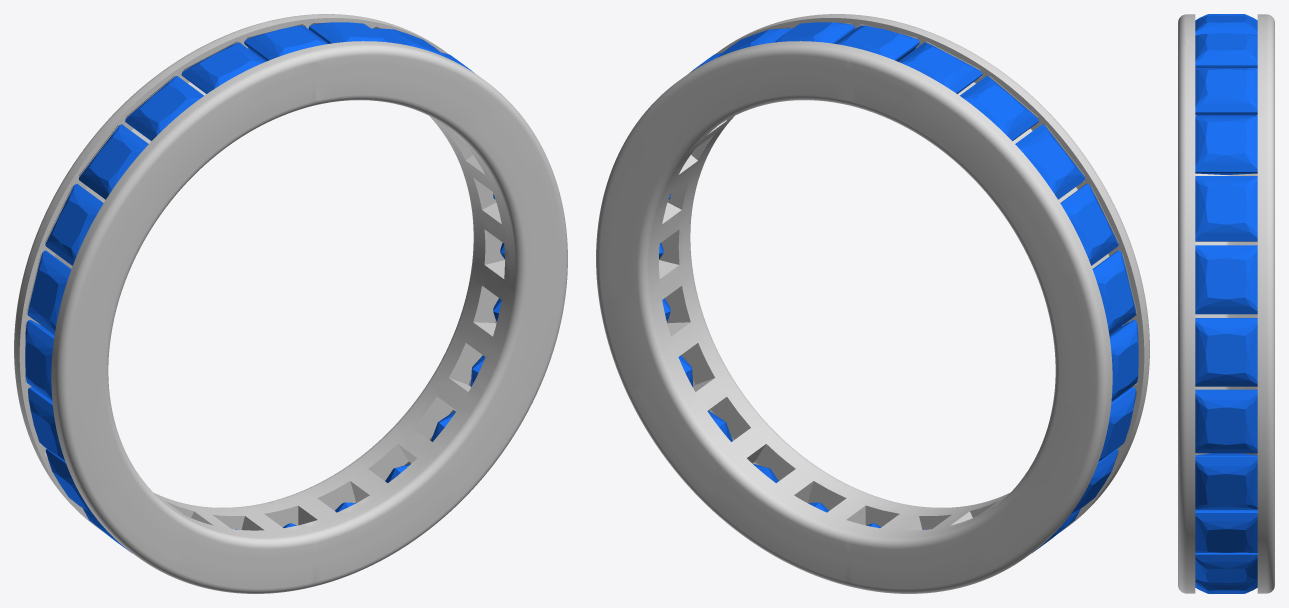
File: NatPTeternity_blender.glb
The picture shows the model from 3 angles, left to right: view 1: azimuth 30°, elevation 25°; view 2: azimuth 150°, elevation 25°; view 3: azimuth 270°, elevation 25°; orthographic projection.
Parts seen in each view (by area): view 1: Nat PT for 3d model, Nat sapph for 3d model.020, Nat sapph for 3d model.019, Nat sapph for 3d model.021, Nat sapph for 3d model.018, Nat sapph for 3d model.022, Nat sapph for 3d model.017, Nat sapph for 3d model.023, Nat sapph for 3d model.016, Nat sapph for 3d model, Nat sapph for 3d model.015; view 2: Nat PT for 3d model, Nat sapph for 3d model.020, Nat sapph for 3d model.019, Nat sapph for 3d model.021, Nat sapph for 3d model.018, Nat sapph for 3d model.022, Nat sapph for 3d model.017, Nat sapph for 3d model.023, Nat sapph for 3d model.016, Nat sapph for 3d model, Nat sapph for 3d model.015; view 3: Nat PT for 3d model, Nat sapph for 3d model.003, Nat sapph for 3d model.004, Nat sapph for 3d model.002, Nat sapph for 3d model.005, Nat sapph for 3d model.001, Nat sapph for 3d model.006, Nat sapph for 3d model, Nat sapph for 3d model.007, Nat sapph for 3d model.023, Nat sapph for 3d model.008, Nat sapph for 3d model.022 (+1 smaller).
Boxes of the visible parts, left/top/right/bottom form: Nat PT for 3d model: left=14, top=14, right=567, bottom=593; Nat sapph for 3d model.020: left=79, top=124, right=148, bottom=199; Nat sapph for 3d model.019: left=45, top=184, right=103, bottom=265; Nat sapph for 3d model.021: left=125, top=76, right=203, bottom=140; Nat sapph for 3d model.018: left=27, top=250, right=71, bottom=334; Nat sapph for 3d model.022: left=181, top=42, right=265, bottom=93; Nat sapph for 3d model.017: left=25, top=320, right=54, bottom=401; Nat sapph for 3d model.023: left=244, top=25, right=328, bottom=61; Nat sapph for 3d model.016: left=28, top=387, right=65, bottom=461; Nat sapph for 3d model: left=308, top=22, right=389, bottom=43; Nat sapph for 3d model.015: left=45, top=449, right=92, bottom=513; Nat PT for 3d model: left=596, top=14, right=1149, bottom=593; Nat sapph for 3d model.020: left=1015, top=124, right=1084, bottom=199; Nat sapph for 3d model.019: left=1060, top=184, right=1118, bottom=265; Nat sapph for 3d model.021: left=960, top=76, right=1038, bottom=140; Nat sapph for 3d model.018: left=1092, top=250, right=1136, bottom=334; Nat sapph for 3d model.022: left=898, top=42, right=982, bottom=93; Nat sapph for 3d model.017: left=1109, top=320, right=1138, bottom=401; Nat sapph for 3d model.023: left=836, top=25, right=919, bottom=61; Nat sapph for 3d model.016: left=1098, top=387, right=1135, bottom=461; Nat sapph for 3d model: left=774, top=22, right=855, bottom=43; Nat sapph for 3d model.015: left=1071, top=449, right=1118, bottom=513; Nat PT for 3d model: left=1178, top=14, right=1274, bottom=593; Nat sapph for 3d model.003: left=1195, top=245, right=1257, bottom=314; Nat sapph for 3d model.004: left=1195, top=318, right=1257, bottom=386; Nat sapph for 3d model.002: left=1195, top=176, right=1257, bottom=241; Nat sapph for 3d model.005: left=1195, top=389, right=1257, bottom=453; Nat sapph for 3d model.001: left=1195, top=115, right=1257, bottom=174; Nat sapph for 3d model.006: left=1195, top=453, right=1257, bottom=509; Nat sapph for 3d model: left=1195, top=67, right=1257, bottom=115; Nat sapph for 3d model.007: left=1195, top=510, right=1257, bottom=552; Nat sapph for 3d model.023: left=1195, top=33, right=1257, bottom=67; Nat sapph for 3d model.008: left=1195, top=553, right=1257, bottom=582; Nat sapph for 3d model.022: left=1195, top=15, right=1257, bottom=35.
Size of the model in its own units: 20.93 by 20.93 by 3.5.
